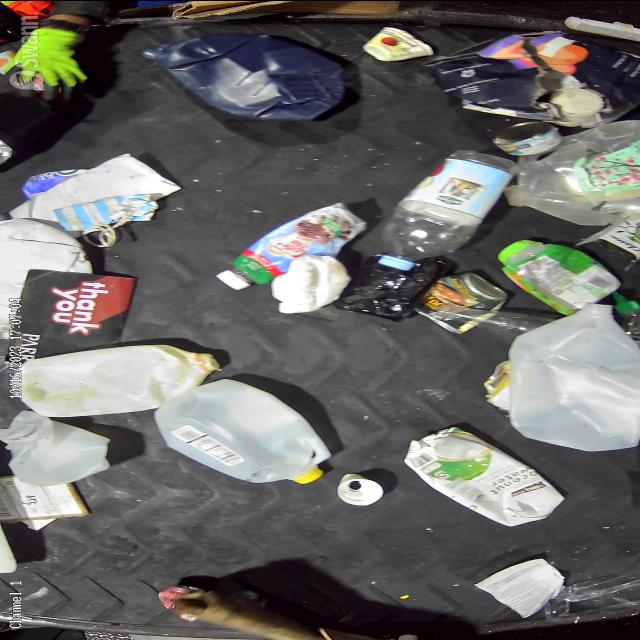can: (408, 270, 504, 337), (486, 121, 568, 156)
milk_jug: (505, 305, 640, 454), (154, 378, 330, 484), (13, 336, 229, 419), (7, 410, 118, 484)
non_white_jug: (150, 36, 368, 124)
plastic_bottle: (378, 150, 512, 274)
